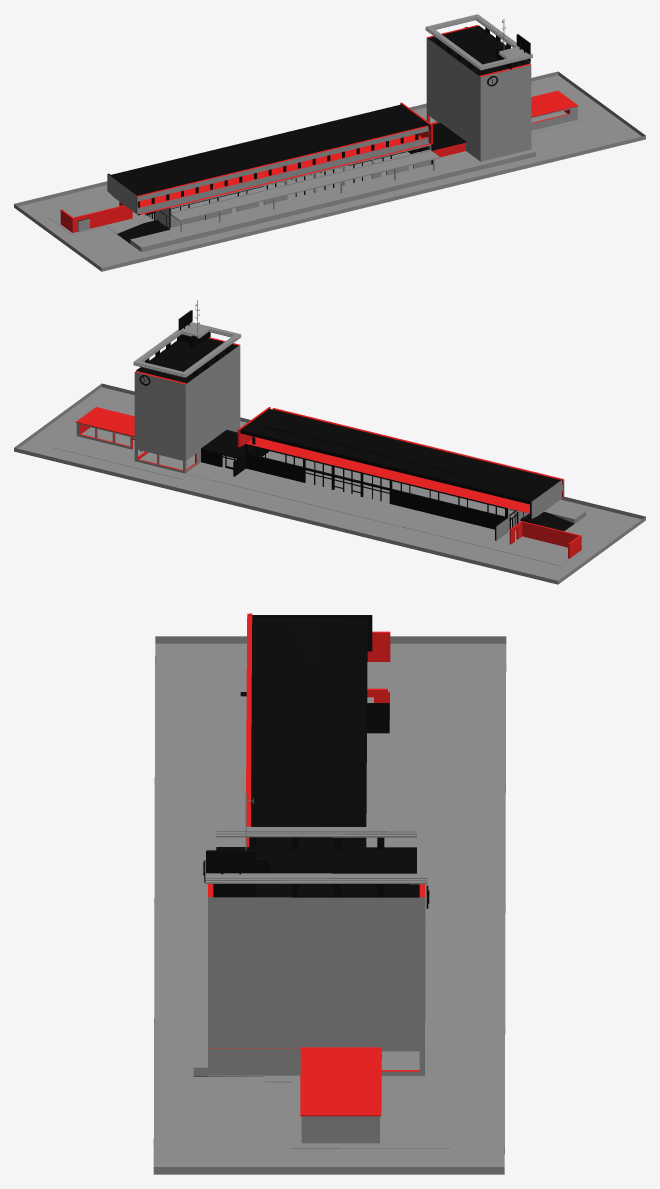
3 views of the same model, one above another, from view 1: azimuth 30°, elevation 25°; view 2: azimuth 150°, elevation 25°; view 3: azimuth 270°, elevation 25° (orthographic). The views are drawn at different scales.
Visible parts, largest first — view 1: building05; view 2: building05; view 3: building05.
Part boxes in pixels (x1,y1,x2,y2): building05: (14,14,645,271); building05: (14,300,645,584); building05: (153,613,506,1174).
Size of the model in its own units: 81.86 by 19.15 by 22.97.
